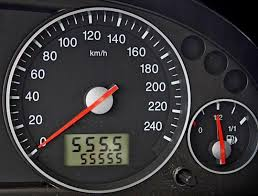Digital_Meter: (64, 132, 133, 167)
